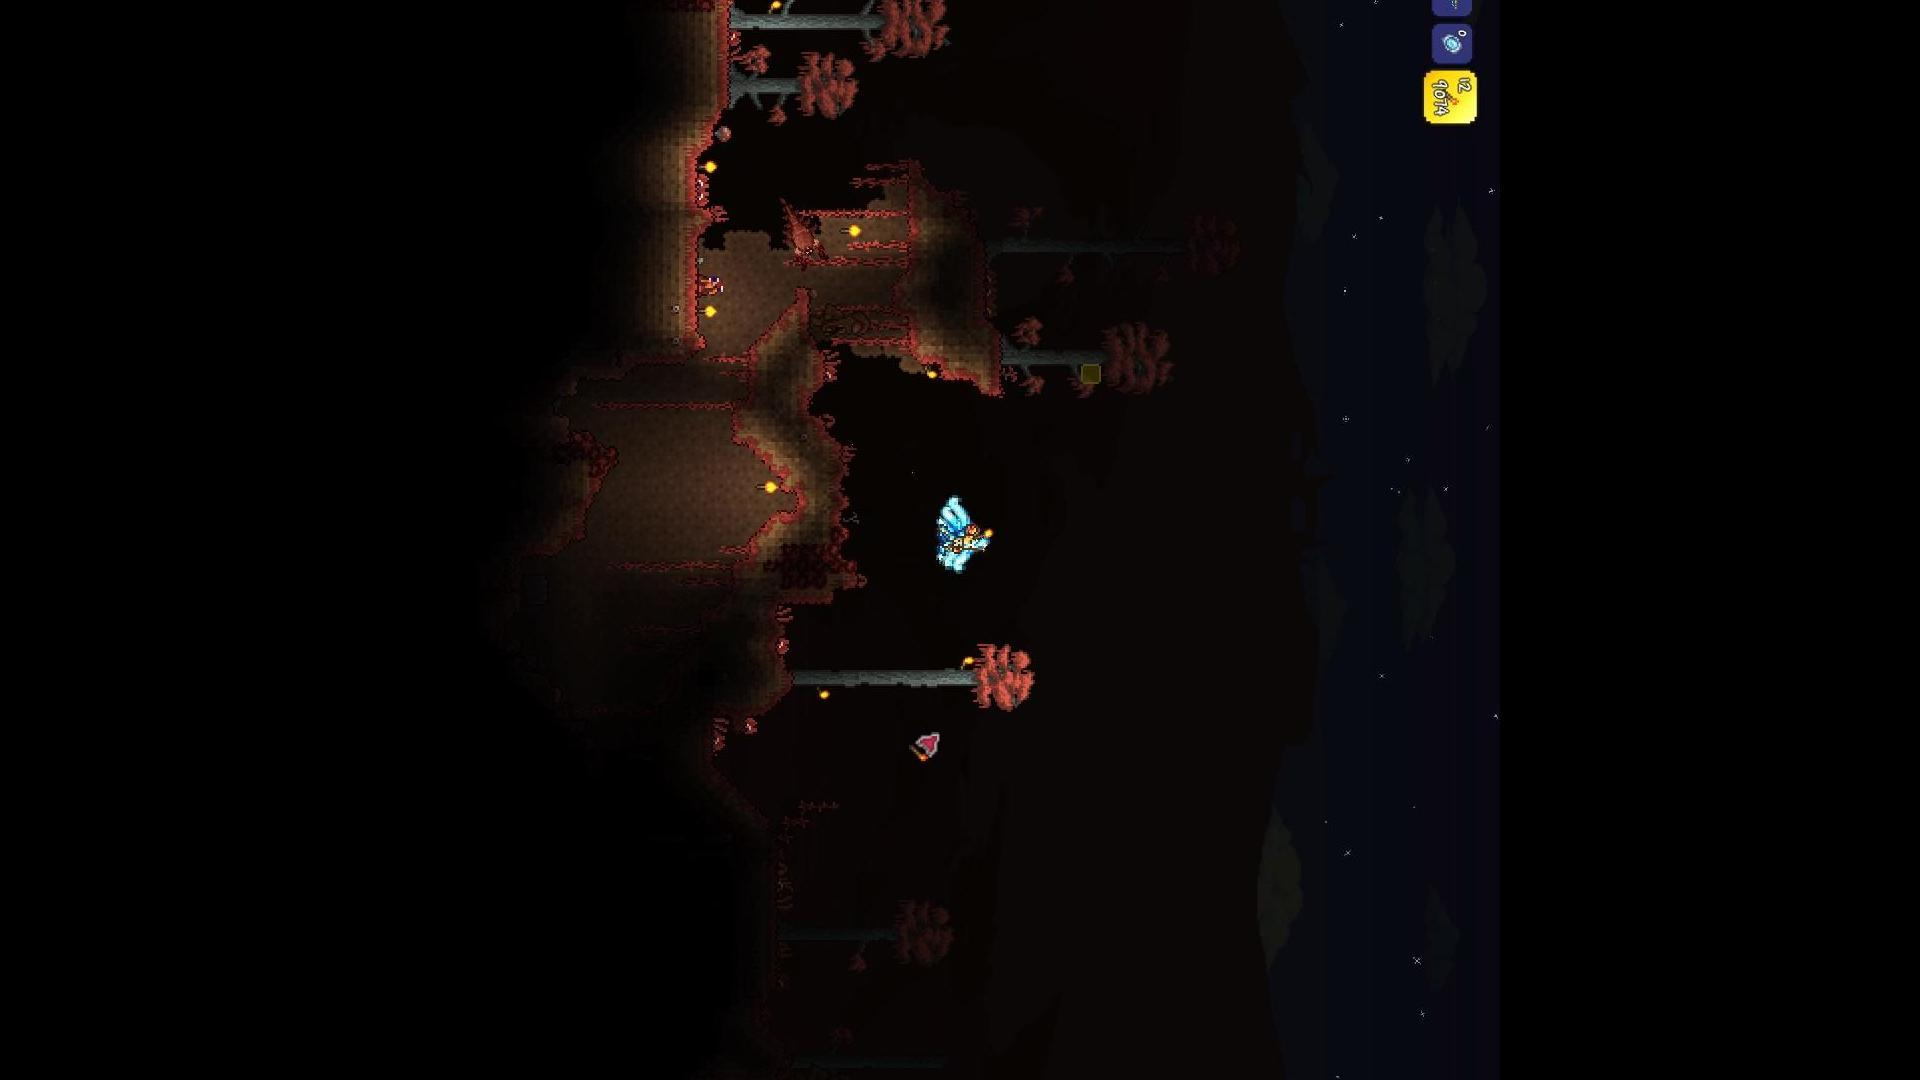crimera: (770, 190, 833, 274)
mirror: (1439, 32, 1466, 59)
